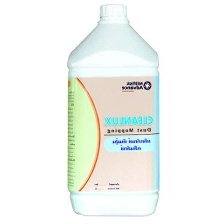cleaning_solution: (64, 2, 162, 218)
